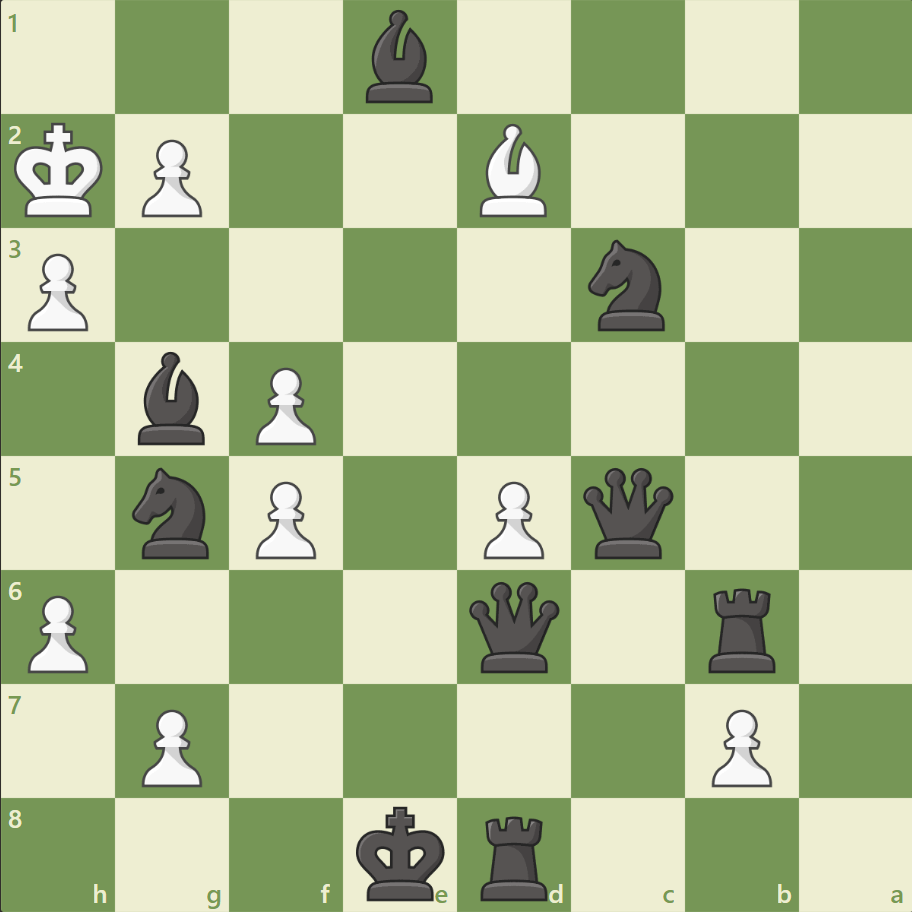B: (471, 120, 555, 222)
K: (11, 117, 111, 225)
P: (701, 700, 776, 791), (133, 700, 208, 791), (20, 586, 95, 677), (474, 473, 549, 564), (247, 473, 322, 564), (247, 359, 322, 450), (20, 246, 95, 337), (133, 132, 208, 223)
b: (358, 6, 442, 109), (131, 347, 215, 449)
k: (351, 798, 451, 906)
n: (124, 461, 222, 564), (579, 234, 676, 337)
q: (464, 576, 563, 676), (578, 463, 677, 562)
r: (473, 806, 556, 904), (700, 579, 783, 676)
